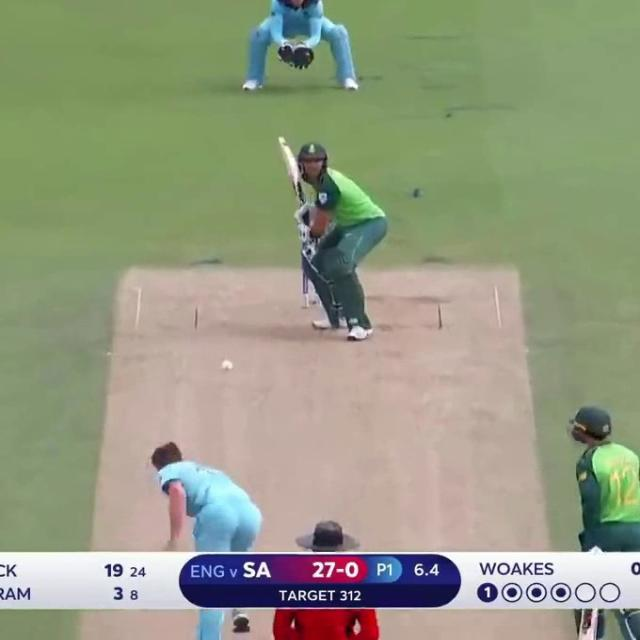bat: (272, 136, 302, 190), (579, 607, 601, 640)
